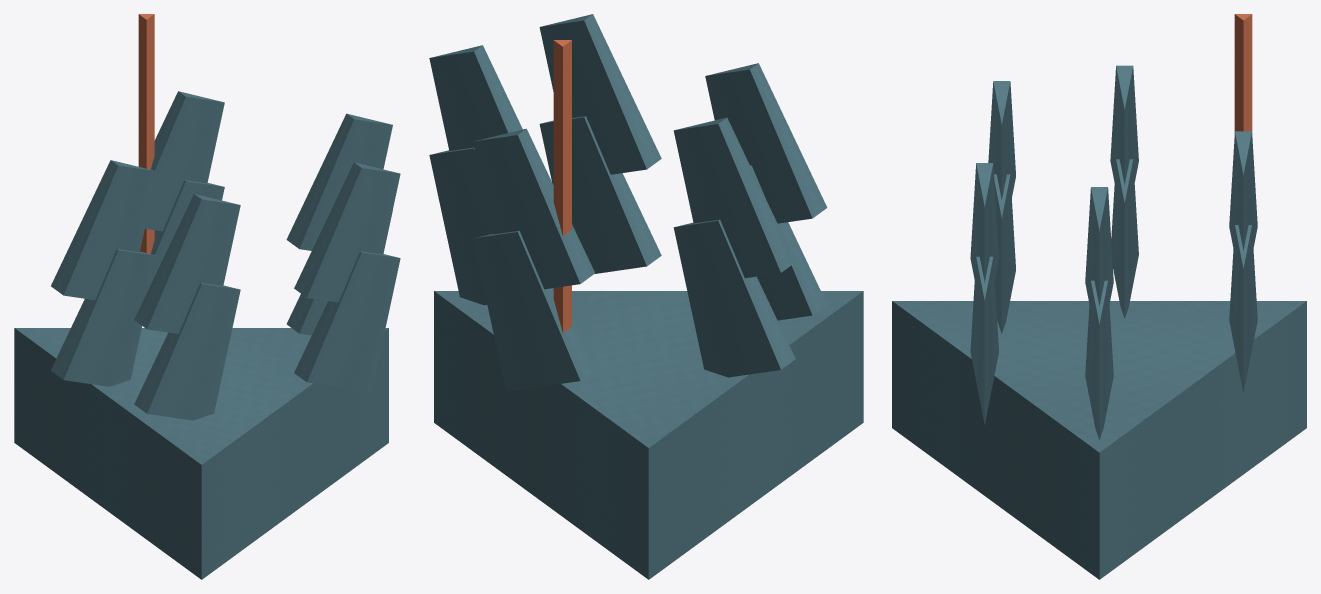
The model's file is atlas100-s041-a12.lod2.glb.
3 views of the same model, side by side, from view 1: azimuth 30°, elevation 25°; view 2: azimuth 150°, elevation 25°; view 3: azimuth 270°, elevation 25° (orthographic). The views are drawn at different scales.
Visible parts, largest first — view 1: atlas100-s041-a12:part-000, atlas100-s041-a12:part-011, atlas100-s041-a12:part-005, atlas100-s041-a12:part-014, atlas100-s041-a12:part-012, atlas100-s041-a12:part-006, atlas100-s041-a12:part-015, atlas100-s041-a12:part-009, atlas100-s041-a12:part-003, atlas100-s041-a12:part-007, atlas100-s041-a12:part-008, atlas100-s041-a12:part-002; view 2: atlas100-s041-a12:part-000, atlas100-s041-a12:part-014, atlas100-s041-a12:part-008, atlas100-s041-a12:part-015, atlas100-s041-a12:part-009, atlas100-s041-a12:part-006, atlas100-s041-a12:part-012, atlas100-s041-a12:part-011, atlas100-s041-a12:part-003, atlas100-s041-a12:part-002, atlas100-s041-a12:part-007, atlas100-s041-a12:part-005; view 3: atlas100-s041-a12:part-000, atlas100-s041-a12:part-011, atlas100-s041-a12:part-008, atlas100-s041-a12:part-002, atlas100-s041-a12:part-014, atlas100-s041-a12:part-015, atlas100-s041-a12:part-003, atlas100-s041-a12:part-009, atlas100-s041-a12:part-012, atlas100-s041-a12:part-005, atlas100-s041-a12:part-006, atlas100-s041-a12:part-007.
Boxes of the visible parts, left/top/right/bottom form: atlas100-s041-a12:part-000: left=14, top=328, right=388, bottom=579; atlas100-s041-a12:part-011: left=294, top=251, right=400, bottom=391; atlas100-s041-a12:part-005: left=134, top=283, right=240, bottom=420; atlas100-s041-a12:part-014: left=51, top=249, right=157, bottom=386; atlas100-s041-a12:part-012: left=294, top=162, right=400, bottom=302; atlas100-s041-a12:part-006: left=134, top=194, right=240, bottom=333; atlas100-s041-a12:part-015: left=51, top=160, right=157, bottom=299; atlas100-s041-a12:part-009: left=145, top=91, right=224, bottom=231; atlas100-s041-a12:part-003: left=286, top=113, right=392, bottom=250; atlas100-s041-a12:part-007: left=138, top=14, right=154, bottom=253; atlas100-s041-a12:part-008: left=151, top=180, right=224, bottom=282; atlas100-s041-a12:part-002: left=286, top=210, right=392, bottom=335; atlas100-s041-a12:part-000: left=434, top=291, right=863, bottom=579; atlas100-s041-a12:part-014: left=673, top=219, right=795, bottom=377; atlas100-s041-a12:part-008: left=473, top=230, right=594, bottom=391; atlas100-s041-a12:part-015: left=673, top=117, right=795, bottom=278; atlas100-s041-a12:part-009: left=473, top=128, right=594, bottom=289; atlas100-s041-a12:part-006: left=705, top=63, right=827, bottom=223; atlas100-s041-a12:part-012: left=539, top=14, right=661, bottom=174; atlas100-s041-a12:part-011: left=539, top=116, right=661, bottom=273; atlas100-s041-a12:part-003: left=429, top=45, right=522, bottom=150; atlas100-s041-a12:part-002: left=429, top=147, right=492, bottom=305; atlas100-s041-a12:part-007: left=553, top=40, right=571, bottom=332; atlas100-s041-a12:part-005: left=750, top=165, right=827, bottom=320; atlas100-s041-a12:part-000: left=892, top=301, right=1306, bottom=579; atlas100-s041-a12:part-011: left=970, top=256, right=998, bottom=424; atlas100-s041-a12:part-008: left=1229, top=225, right=1257, bottom=393; atlas100-s041-a12:part-002: left=1085, top=280, right=1113, bottom=439; atlas100-s041-a12:part-014: left=1111, top=159, right=1138, bottom=318; atlas100-s041-a12:part-015: left=1110, top=65, right=1138, bottom=184; atlas100-s041-a12:part-003: left=1085, top=187, right=1113, bottom=306; atlas100-s041-a12:part-009: left=1229, top=131, right=1257, bottom=250; atlas100-s041-a12:part-012: left=970, top=163, right=998, bottom=282; atlas100-s041-a12:part-005: left=994, top=174, right=1015, bottom=333; atlas100-s041-a12:part-006: left=988, top=81, right=1015, bottom=200; atlas100-s041-a12:part-007: left=1234, top=14, right=1252, bottom=132.
Size of the model in its own units: 1 by 1.25 by 1.
2 materials, 2 textured.
